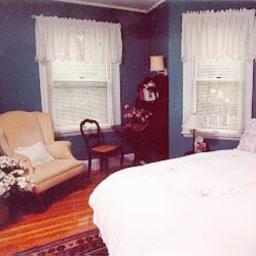Cama: (98, 126, 250, 254)
Ventana: (43, 31, 116, 129), (192, 15, 242, 134)
